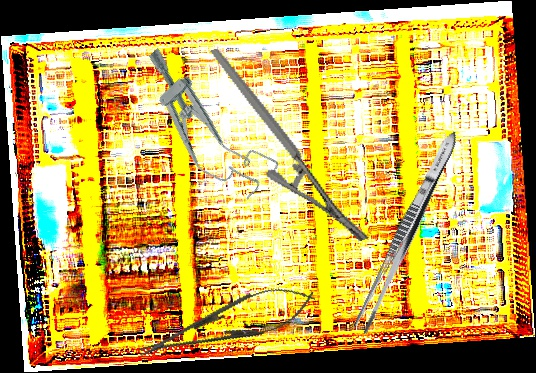Dressing Forceps: (349, 127, 464, 338)
Needle Holder: (209, 21, 370, 268), (132, 274, 321, 373)
Speculum: (119, 38, 286, 213)
